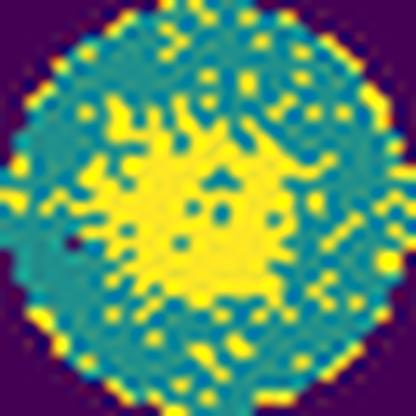Center: (42, 94, 334, 321)
